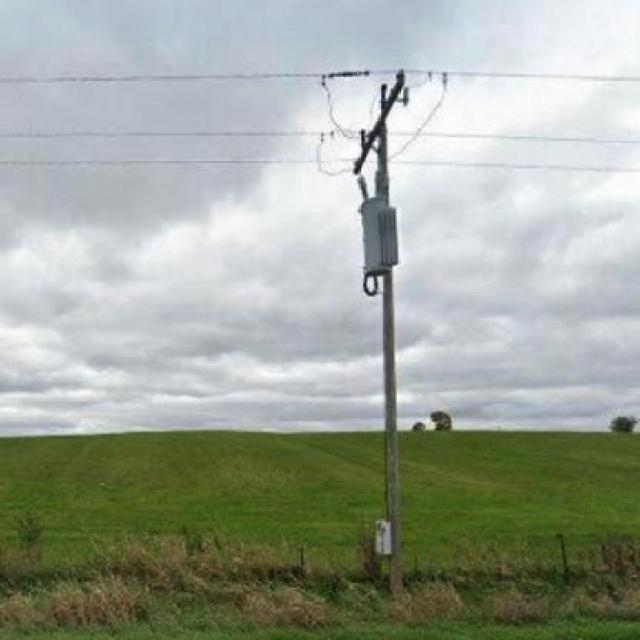crossarm: (350, 80, 406, 174)
pole: (378, 124, 405, 605)
transformer: (359, 196, 398, 277), (375, 519, 392, 555)
wire: (0, 67, 639, 85)
